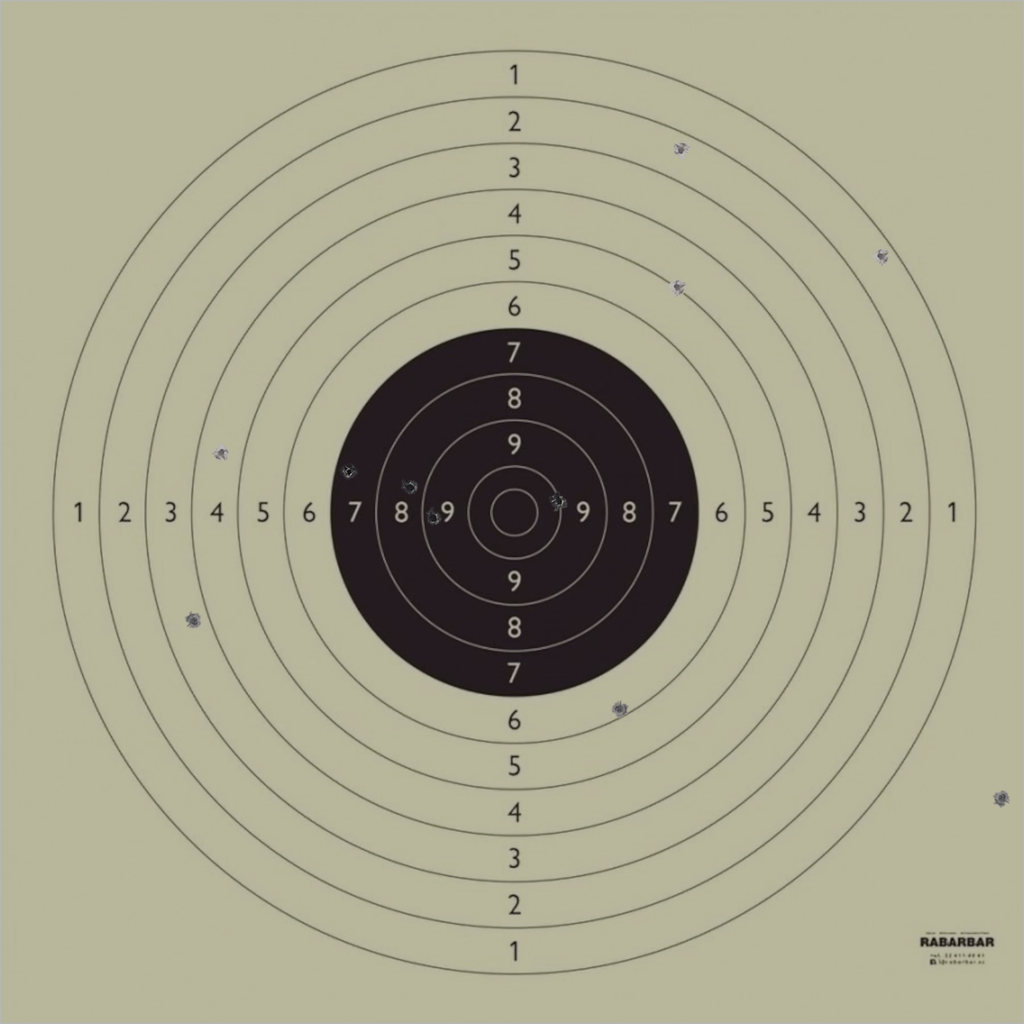0 punktow: (993, 789, 1011, 807)
1 punkt: (872, 247, 890, 265)
10 punktow: (549, 492, 568, 510)
2 punkty: (672, 141, 690, 159)
3 punkty: (185, 612, 203, 630)
4 punkty: (212, 443, 231, 462)
5 punktow: (668, 278, 687, 296)
6 punktow: (610, 700, 629, 718)
7 punktow: (340, 463, 358, 482)
8 punktow: (401, 478, 419, 497)
9 punktow: (424, 508, 443, 527)
